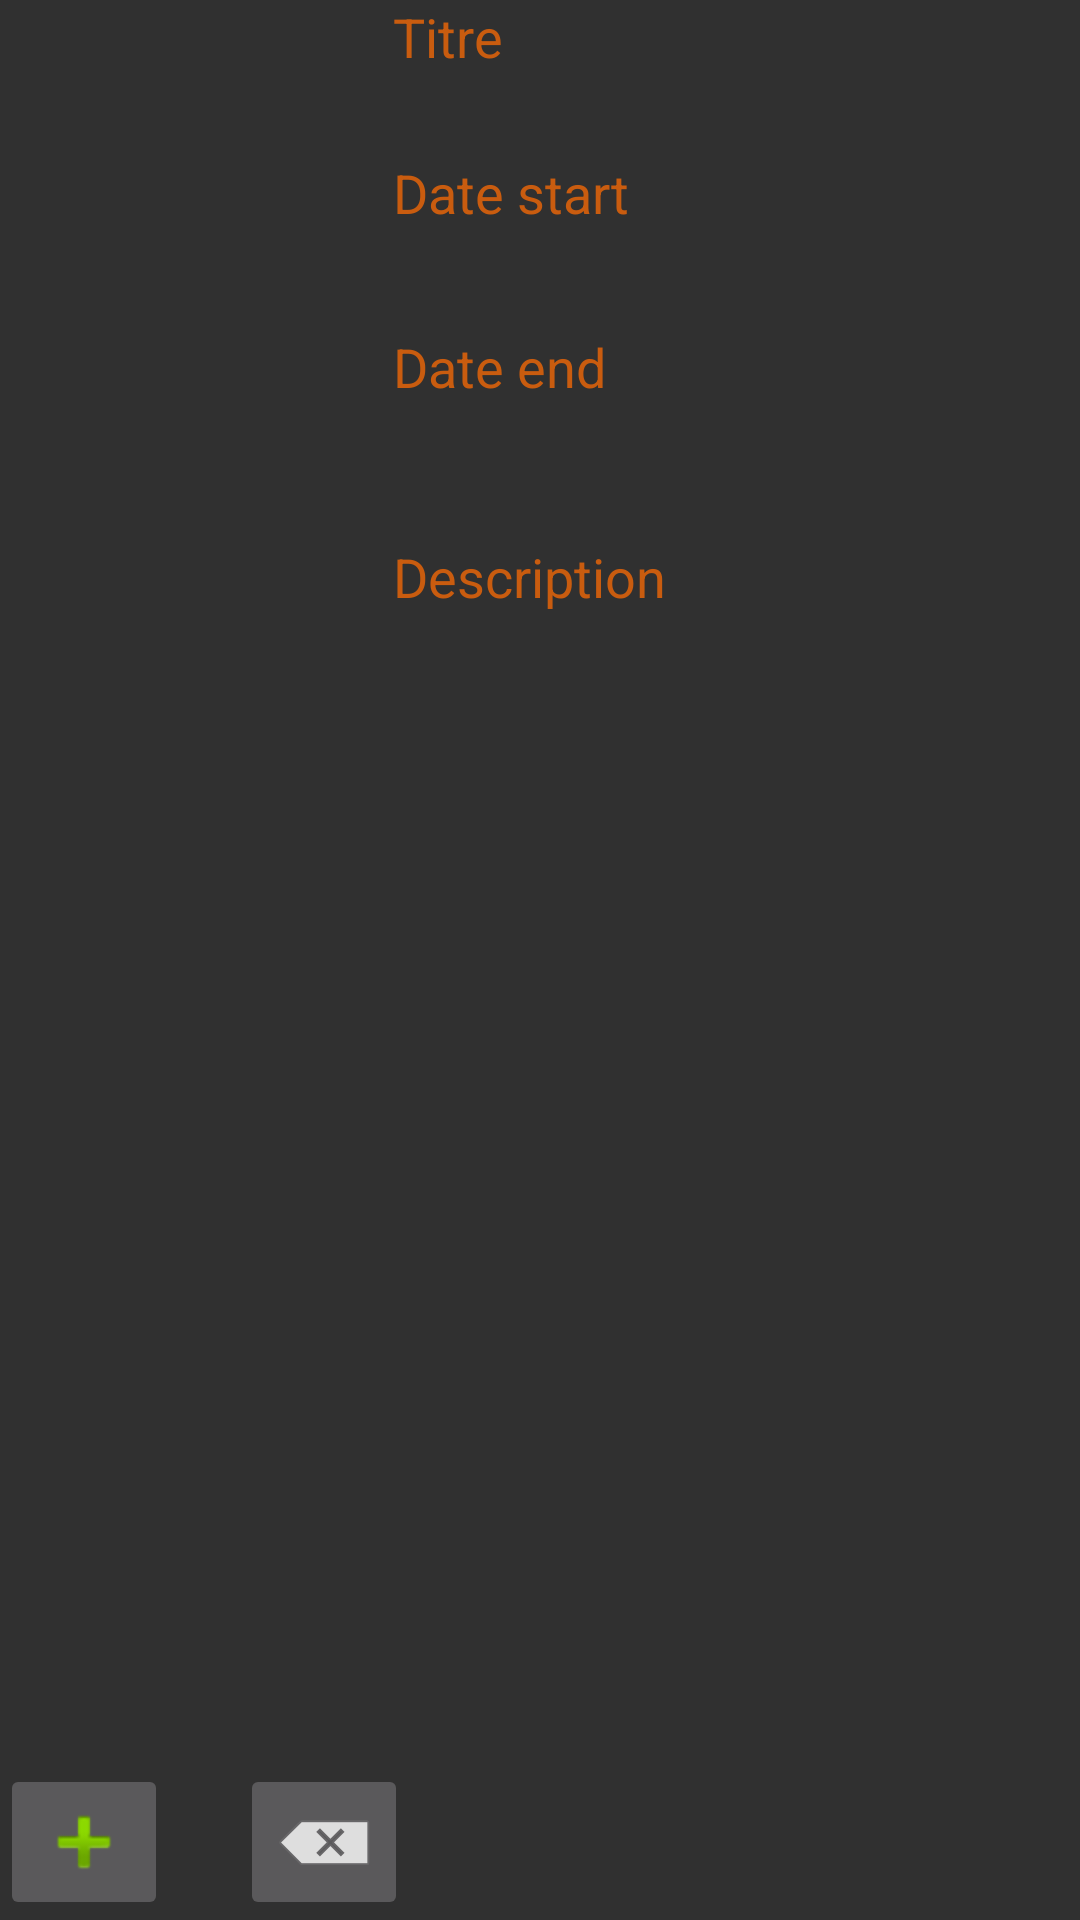

Screen size 1080×1920. Icon name, then its center in pixels as (x,y):
add: (84,1842)
delete: (324,1842)
